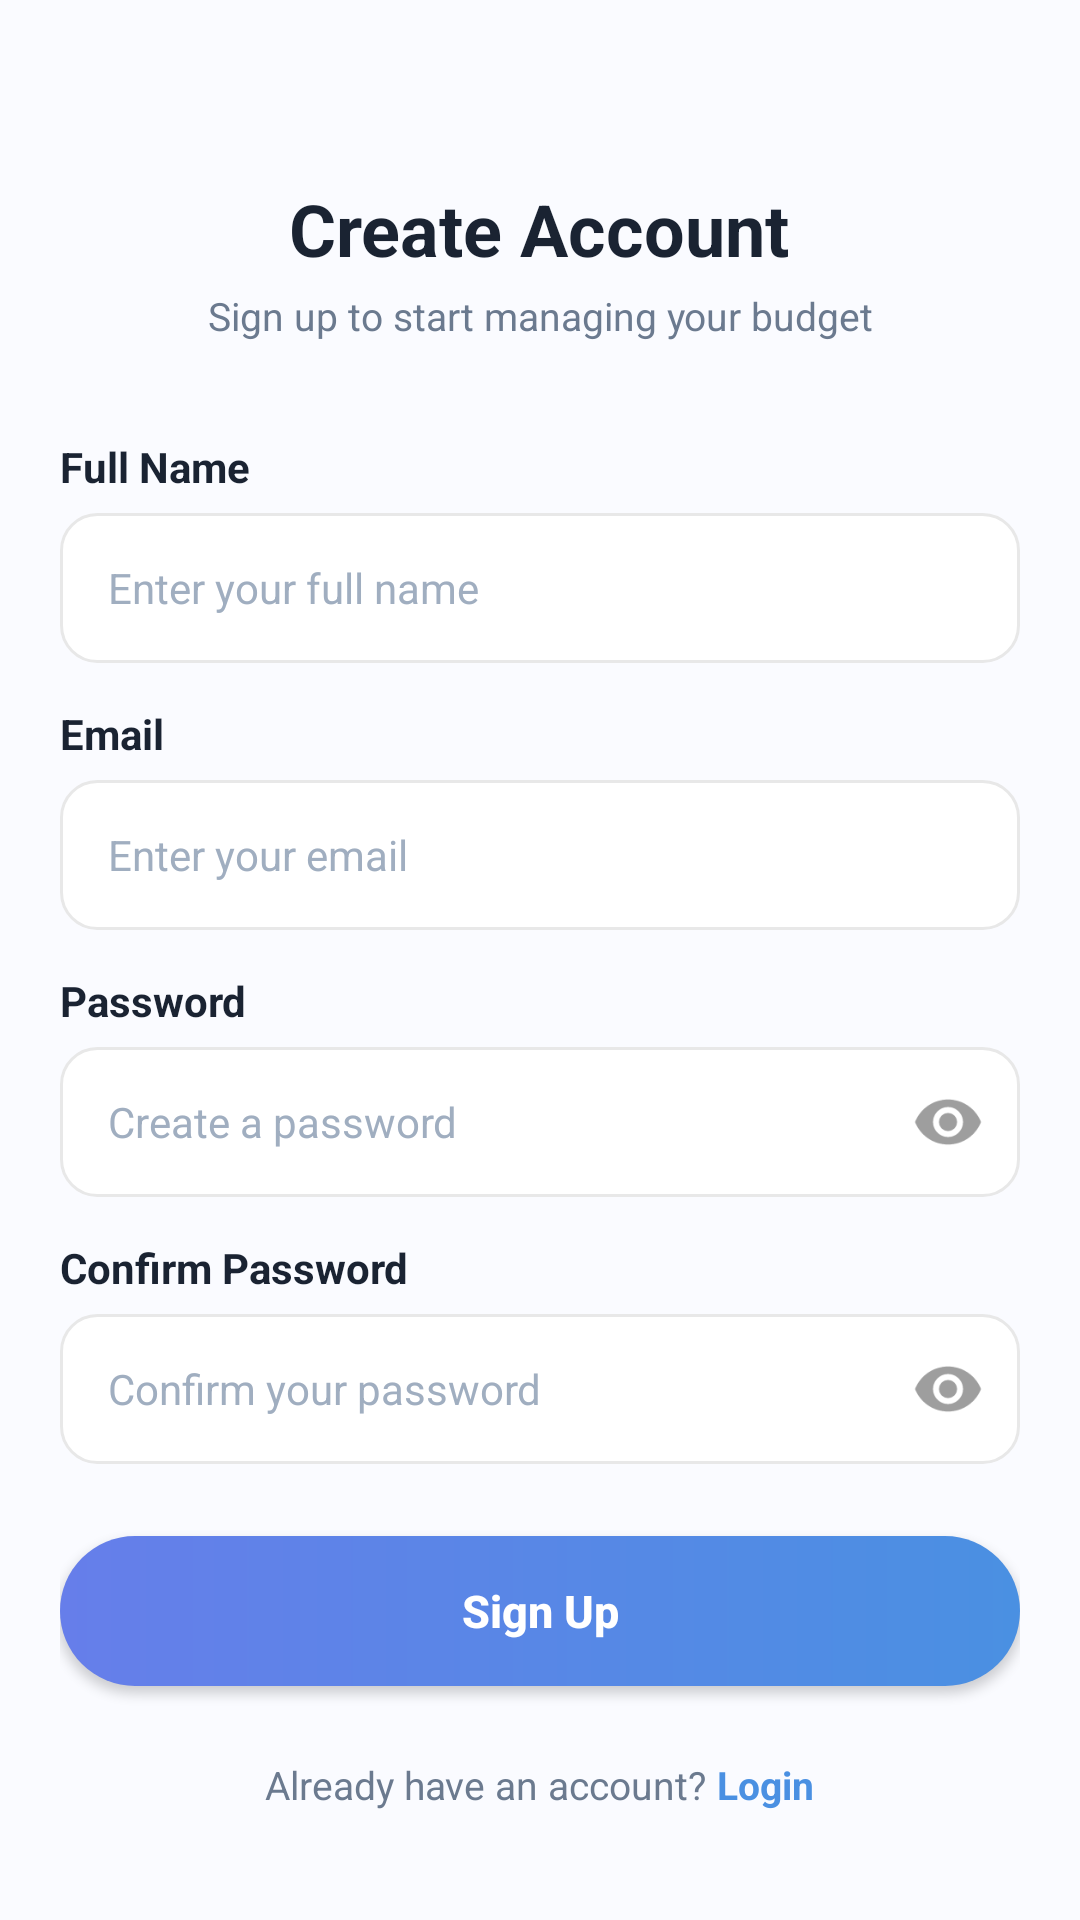

Named icons in this screenshot (1080 x 1920) and their bounding boxes, (x1, y1, x2, y2):
Toggle password: (915, 1099, 981, 1145), (915, 1366, 981, 1412)
